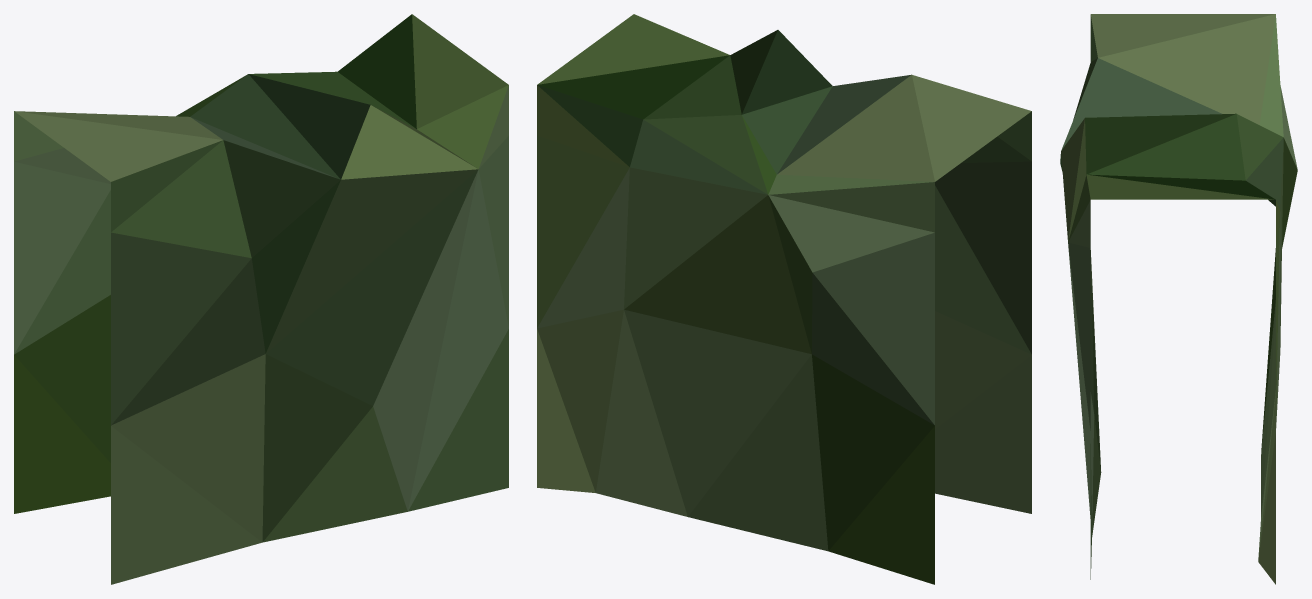
File: Wall_Foliage-2m.fbx
3 renders of one model, left to right at view 1: azimuth 30°, elevation 25°; view 2: azimuth 150°, elevation 25°; view 3: azimuth 270°, elevation 25°, orthographic. The views are drawn at different scales.
Visible parts, largest first — view 1: Wall_Foliage-2m; view 2: Wall_Foliage-2m; view 3: Wall_Foliage-2m.
Part boxes in pixels (x1,y1,x2,y2): Wall_Foliage-2m: [14, 14, 508, 584]; Wall_Foliage-2m: [537, 14, 1031, 584]; Wall_Foliage-2m: [1060, 14, 1297, 584].
Bounding box in the file's own units: 200 × 201 × 108.
